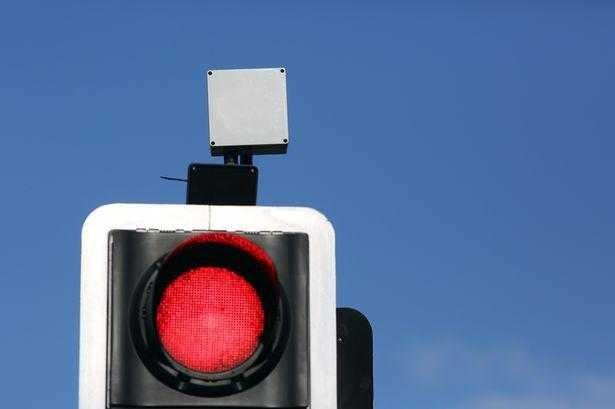red: (122, 223, 297, 399)
